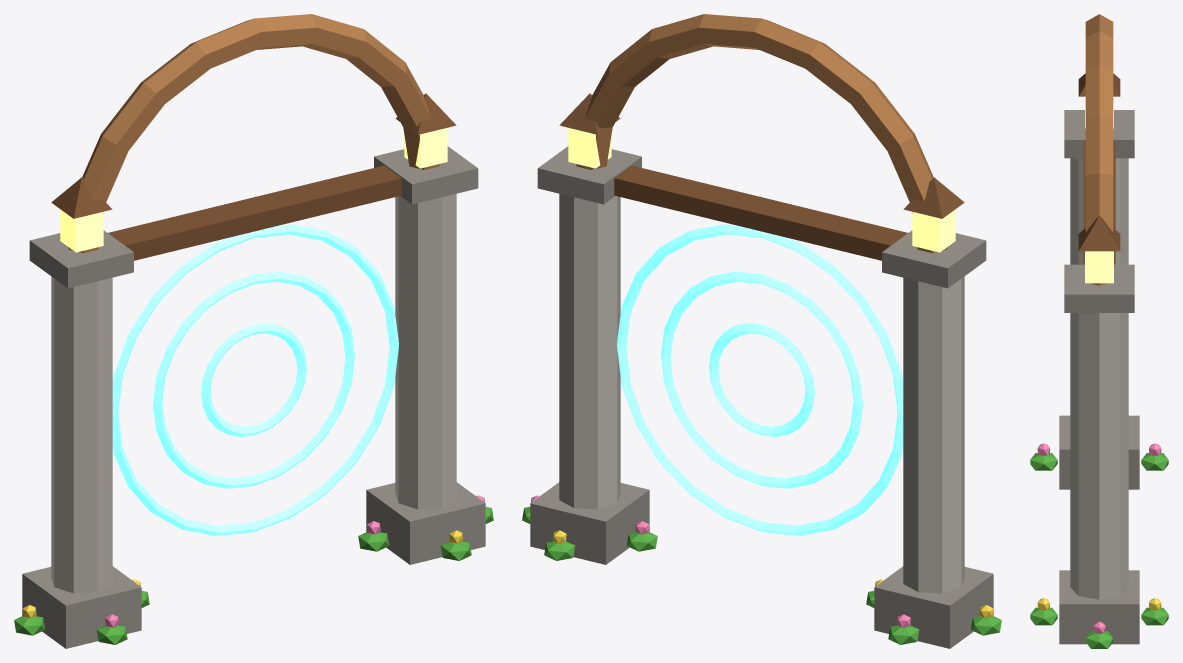
File: portal_gate.glb
3 renders of one model, left to right at view 1: azimuth 30°, elevation 25°; view 2: azimuth 150°, elevation 25°; view 3: azimuth 270°, elevation 25°, orthographic. The views are drawn at different scales.
Visible parts, largest first — view 1: portal_gate; view 2: portal_gate; view 3: portal_gate.
Boxes of the visible parts, bbox=[...] form: portal_gate: bbox=[14, 14, 493, 648]; portal_gate: bbox=[522, 14, 1001, 648]; portal_gate: bbox=[1030, 14, 1168, 648].
Bounding box in the file's own units: 3.46 × 3.91 × 0.9471.
